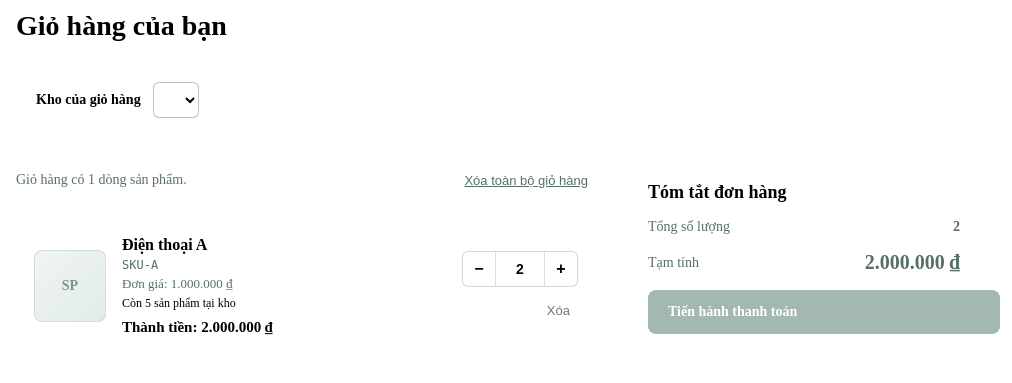
it: CartPage & Header Badge › shows server stock on a 409 and keeps the displayed item
Click the button named "Tăng số lượng Điện thoại A". click: (561, 268)
box: [545, 252, 577, 284]
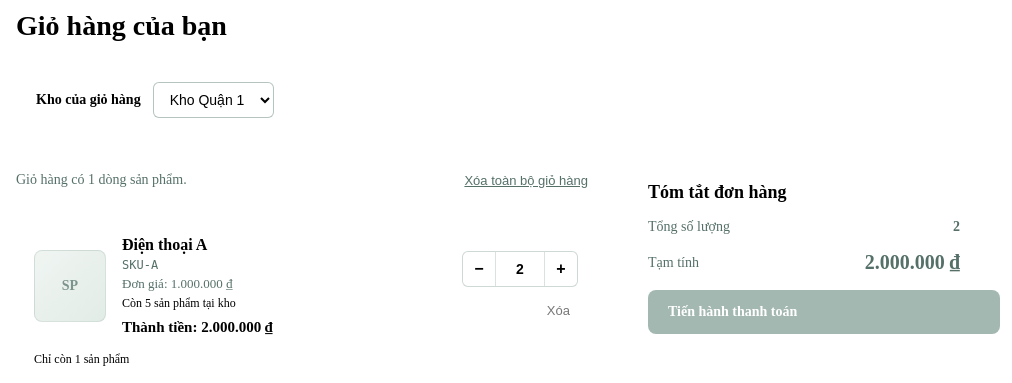
Check: the heading "Điện thoại A" is shown, box [122, 236, 207, 253]
Check: the message reads "Chỉ còn 1 sản phẩm", box [34, 352, 129, 366]
